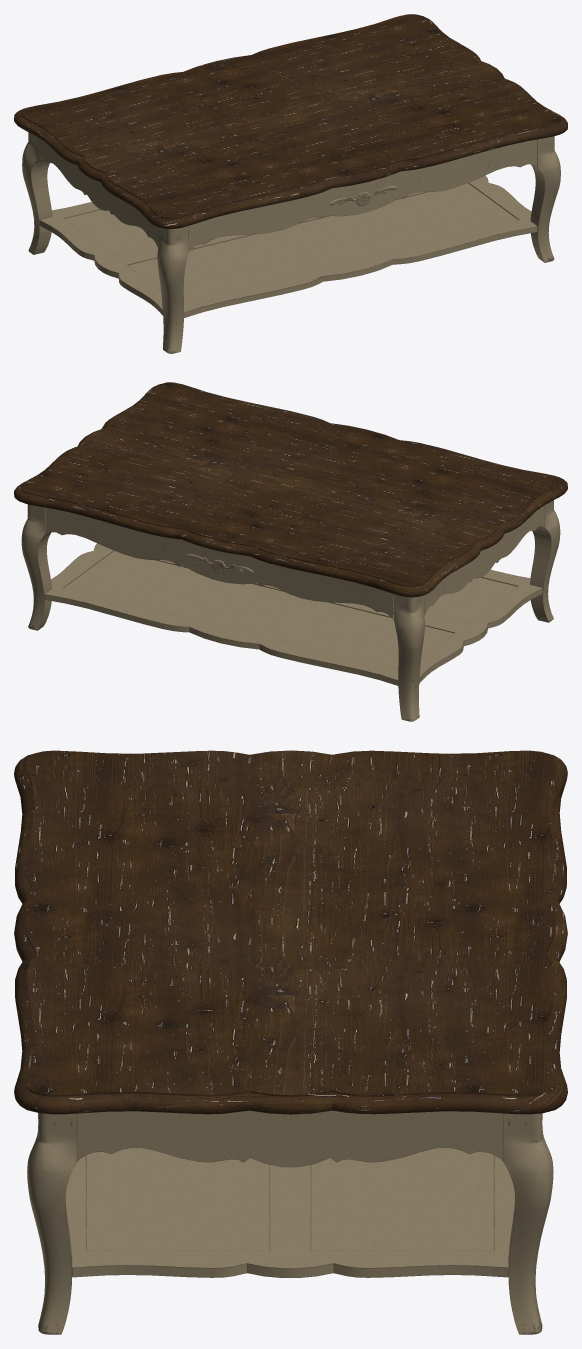
The picture shows the model from 3 angles, top to bottom: view 1: azimuth 30°, elevation 25°; view 2: azimuth 150°, elevation 25°; view 3: azimuth 270°, elevation 25°; orthographic projection. The views are drawn at different scales.
Visible parts, largest first — view 1: Buffer Layer (×2); view 2: Buffer Layer (×2); view 3: Buffer Layer (×2).
Part boxes in pixels (<box>): Buffer Layer (×2): <box>14,14,567,353</box>; Buffer Layer (×2): <box>14,382,567,721</box>; Buffer Layer (×2): <box>14,750,567,1334</box>.
Bounding box in the file's own units: 140 × 45.12 × 92.03.
2 materials, 2 textured.
